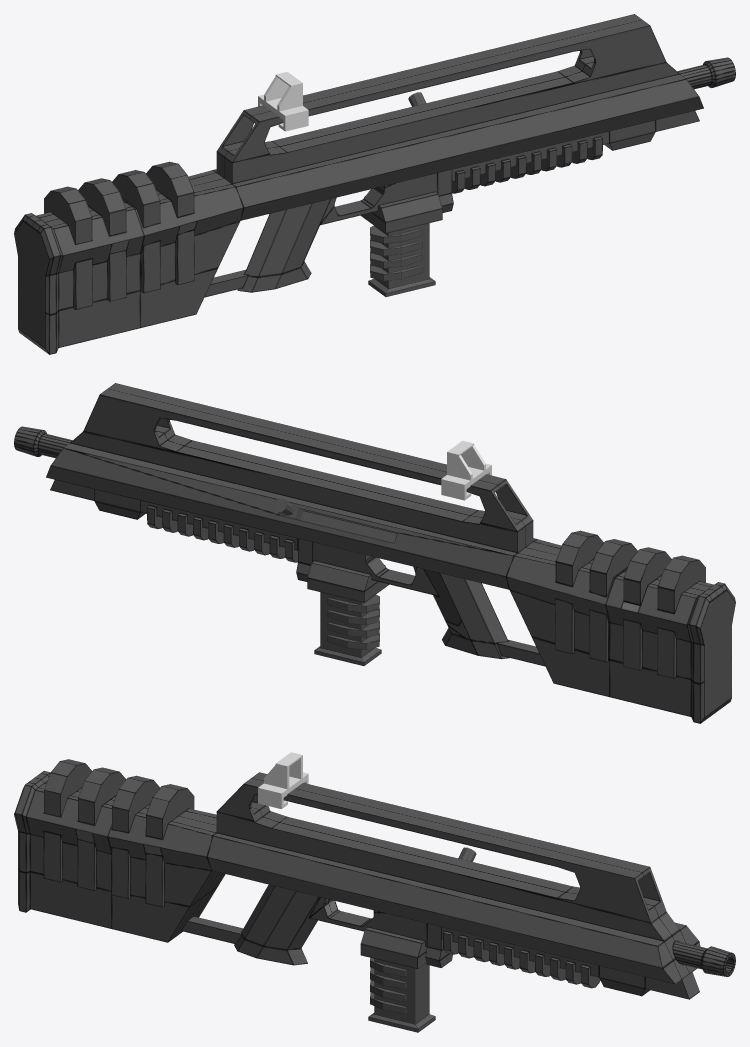
Rendered from weapon01.fbx.
3 views of the same model, one above another, from view 1: azimuth 30°, elevation 25°; view 2: azimuth 150°, elevation 25°; view 3: azimuth 330°, elevation 25° (orthographic).
Parts seen in each view (by area): view 1: weapon01, magazine, Cube; view 2: weapon01, magazine, Cube; view 3: weapon01, magazine, Cube.
Part boxes in pixels (left/top/right/bottom): weapon01: left=14, top=14, right=735, bottom=354; magazine: left=368, top=223, right=435, bottom=296; Cube: left=258, top=71, right=308, bottom=131; weapon01: left=14, top=383, right=735, bottom=723; magazine: left=314, top=592, right=381, bottom=665; Cube: left=441, top=440, right=491, bottom=500; weapon01: left=14, top=759, right=735, bottom=999; magazine: left=368, top=957, right=435, bottom=1032; Cube: left=258, top=752, right=308, bottom=808.
Bounding box in the file's own units: 490 × 157 × 59.65.
